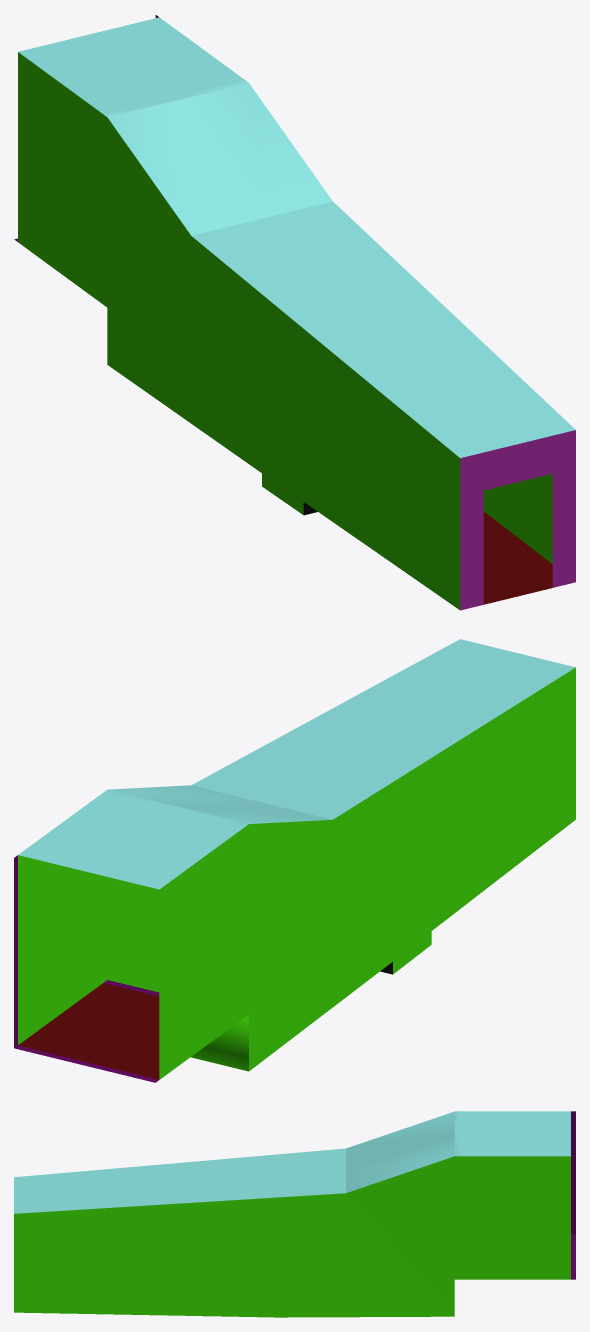
The model's file is fbx_Corridor_Room_v1.3.fbx.
3 views of the same model, one above another, from view 1: azimuth 30°, elevation 25°; view 2: azimuth 150°, elevation 25°; view 3: azimuth 270°, elevation 25° (orthographic). The views are drawn at different scales.
Visible parts, largest first — view 1: Corridor_R10; view 2: Corridor_R10; view 3: Corridor_R10.
Boxes of the visible parts, box(x1,y1,x2,y2) form: Corridor_R10: box(14, 15, 575, 610); Corridor_R10: box(14, 639, 575, 1082); Corridor_R10: box(14, 1111, 575, 1317).
Size of the model in its own units: 396 by 686 by 2063.
